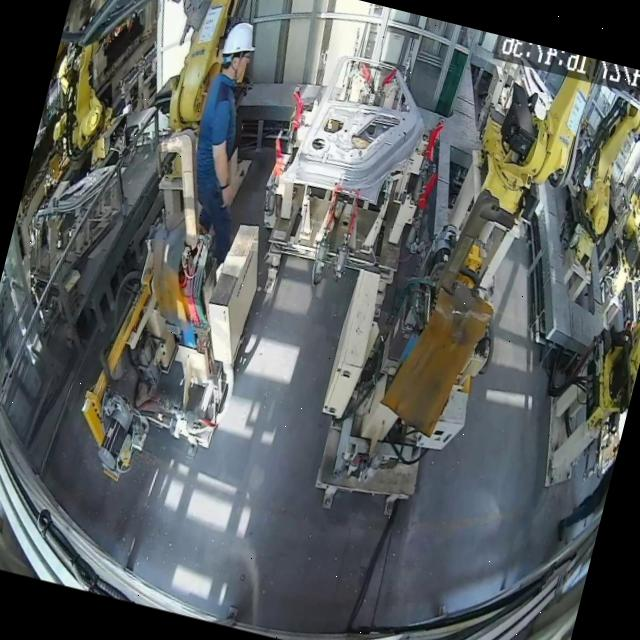Person: (165, 16, 284, 272), (157, 0, 217, 50)
